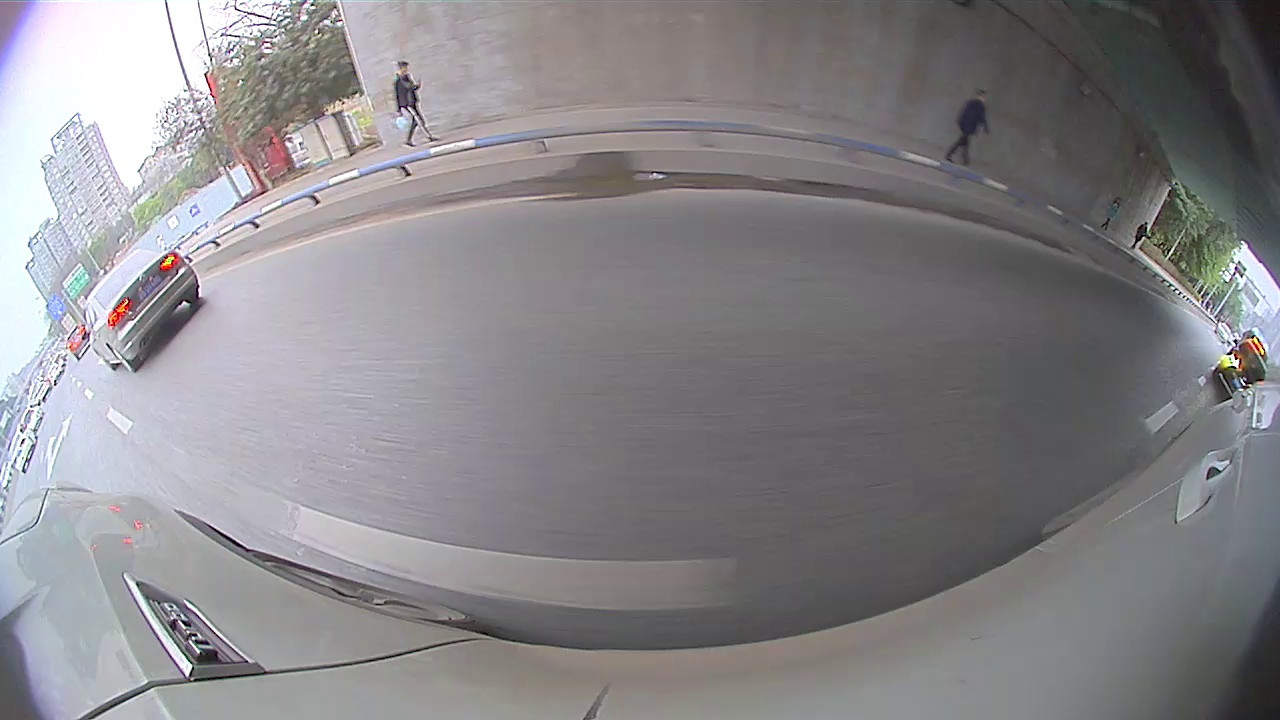car: (84, 245, 200, 375), (1209, 348, 1275, 401)
front: (92, 346, 117, 371)
person: (965, 88, 988, 168), (396, 60, 412, 148), (1110, 197, 1122, 234), (1137, 221, 1150, 252)
rear: (107, 341, 143, 375), (178, 281, 204, 309)
